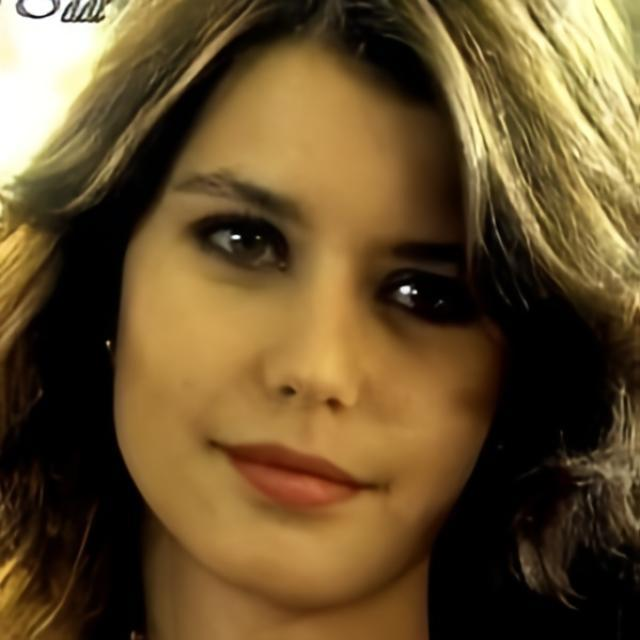content: (111, 32, 518, 602)
